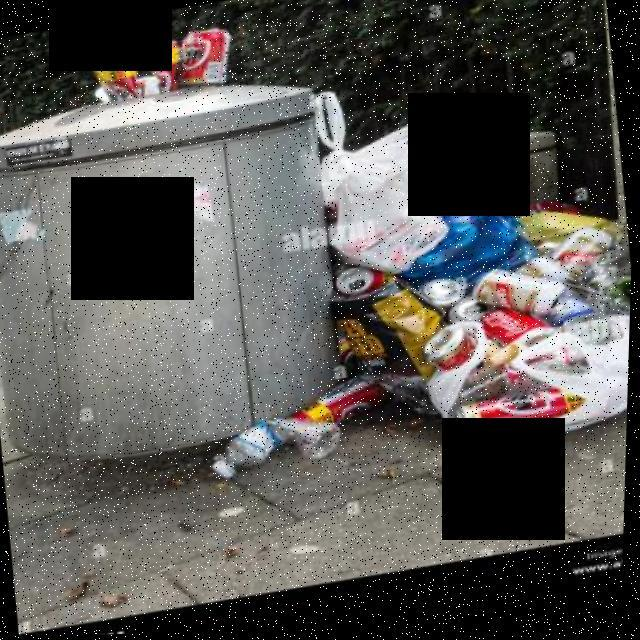bin: (0, 47, 367, 505)
